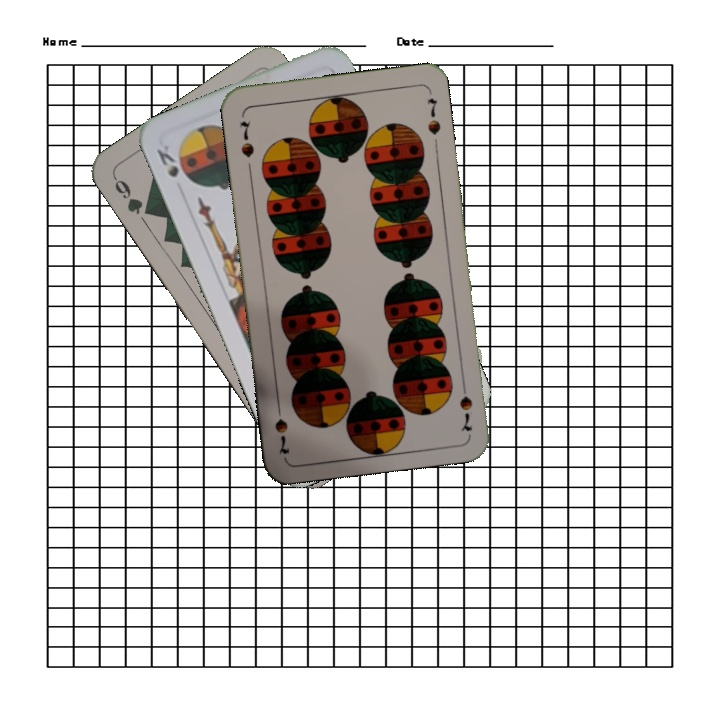G9: (109, 172, 156, 218)
S7: (456, 376, 475, 434), (236, 117, 257, 160)
SK: (152, 140, 191, 183)
